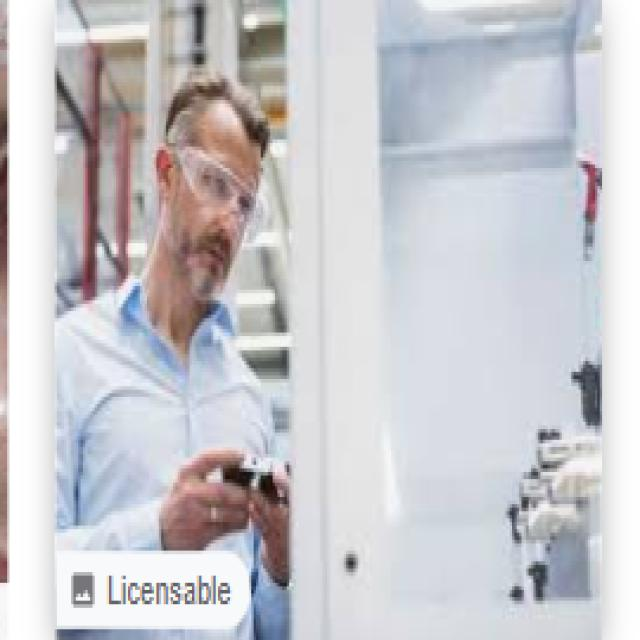glasses: (180, 126, 264, 230)
